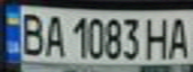0: (84, 15, 106, 60)
1: (66, 14, 87, 58)
3: (121, 15, 145, 61)
8: (103, 15, 124, 61)
A: (163, 13, 193, 60), (42, 11, 69, 57)
B: (15, 9, 48, 56)
H: (142, 14, 172, 61)
